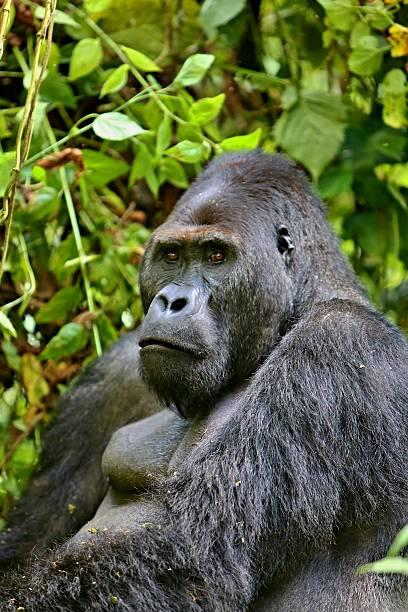gorille_Autres: (13, 122, 408, 612)
